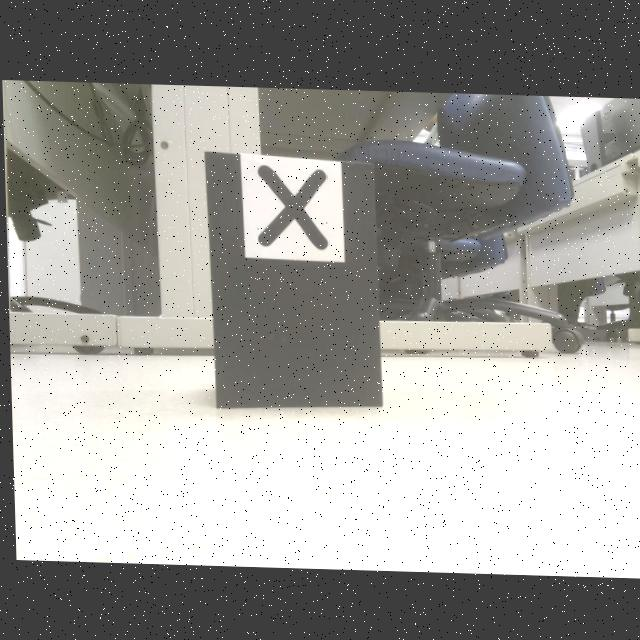X: (256, 163, 328, 248)
